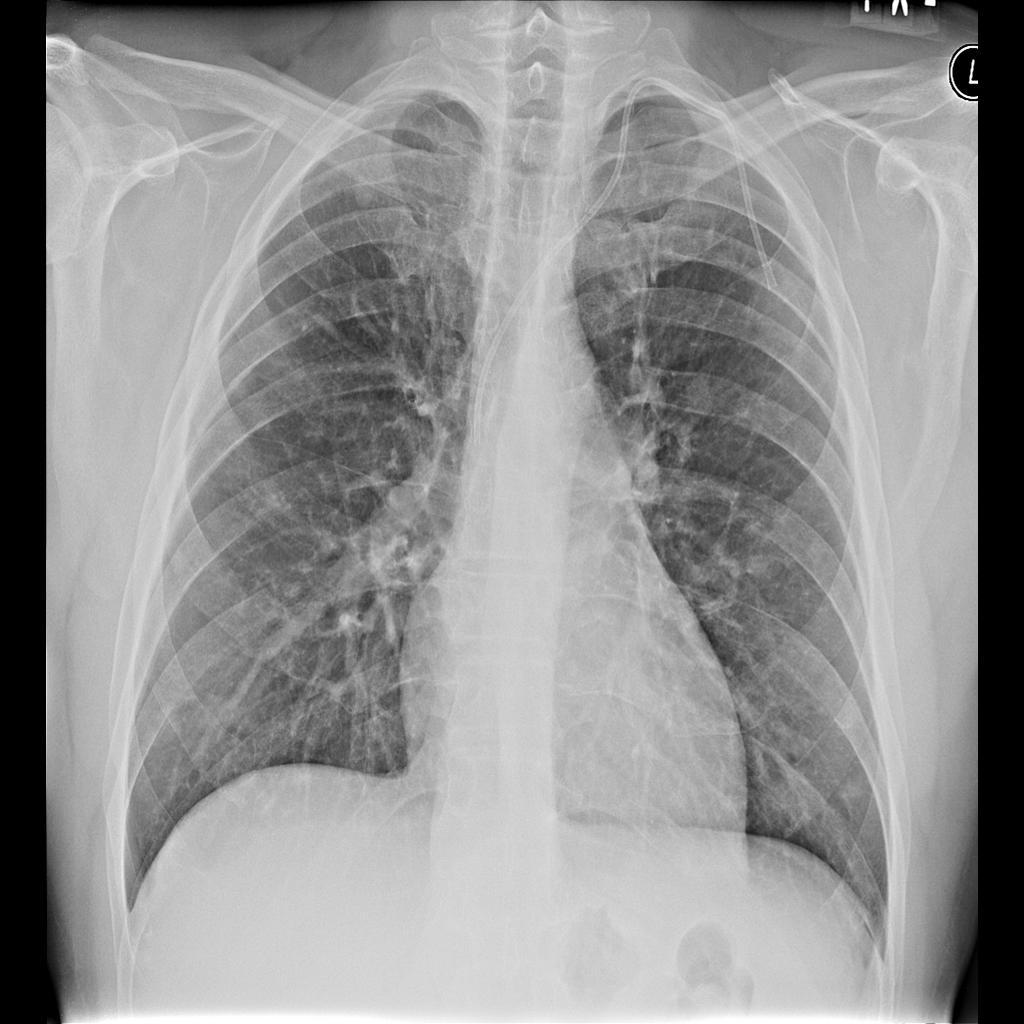Nodule: (682, 373, 720, 419), (743, 547, 782, 586)
